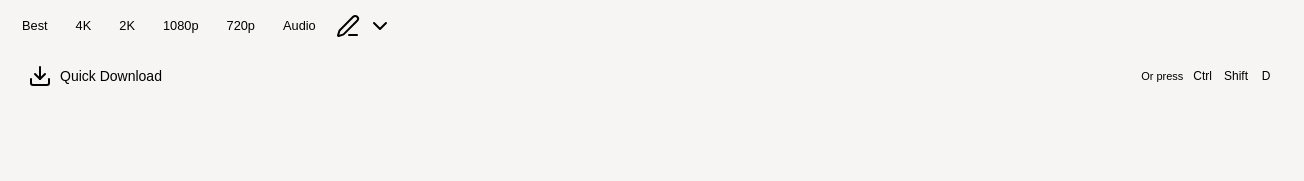
Scenario: quick download hotkey hint › explains the clipboard action and settings path in the tooltip
The width and height of the screenshot is (1304, 181).
Hover over the element with test id "quick-download-hotkey-hint".
mouse_move(1209, 76)  # box x1=1141 y1=66 x2=1276 y2=86
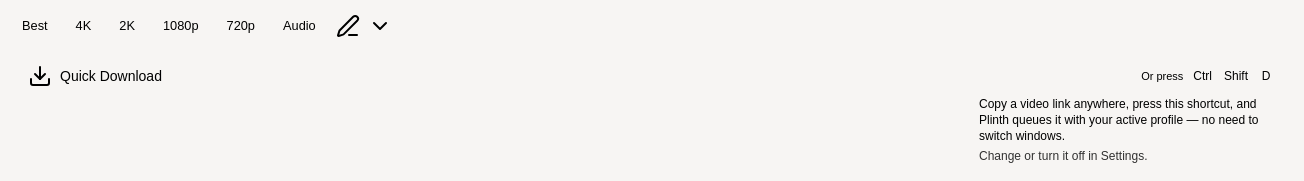
Now the text "Copy a video link anywhere, press this shortcut, and Plinth queues it with your active profile — no need to switch windo" is shown, box x1=979 y1=97 x2=1258 y2=143
Now the button "Change or turn it off in Settings." is shown, box x1=979 y1=148 x2=1148 y2=164
